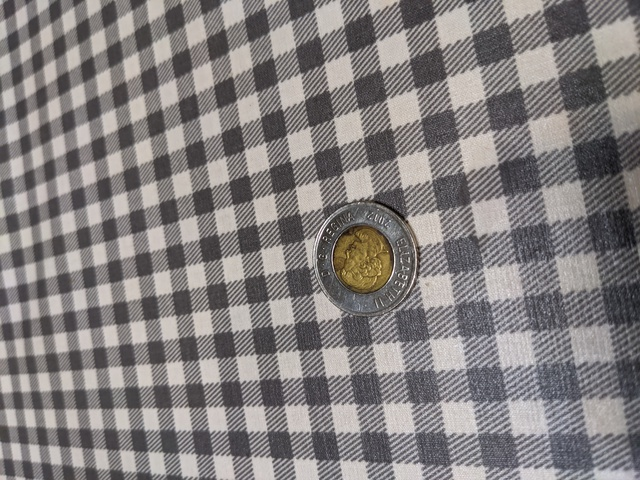twonie: (302, 194, 435, 315)
